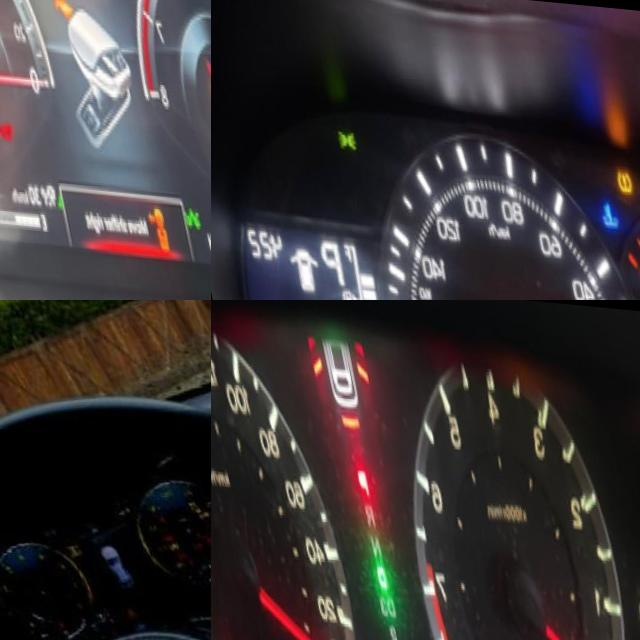Engine cooling system: (40, 613, 54, 626)
High Engine Coolant Temperature: (586, 188, 615, 227)
Low fuel level: (201, 548, 211, 561)
